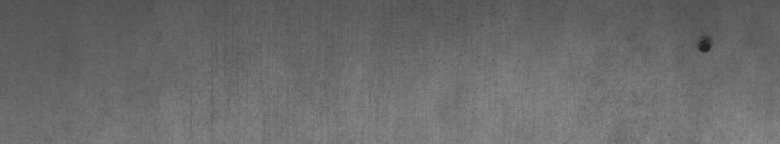fi: (692, 32, 716, 60)
